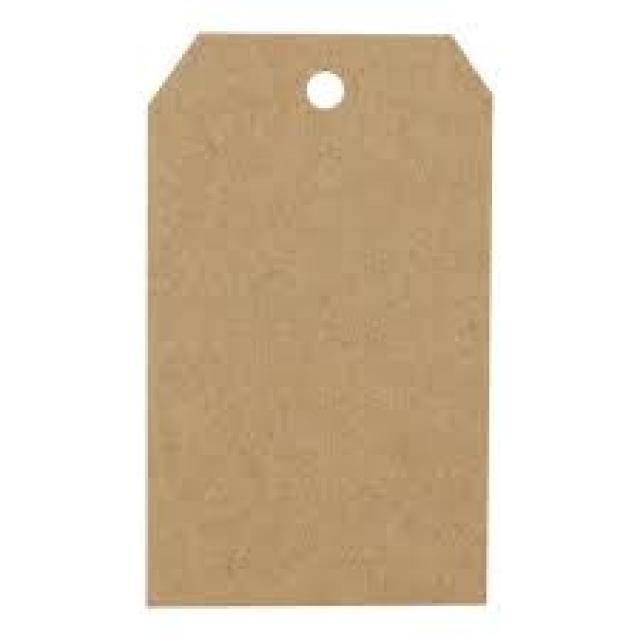Cardboard: (146, 31, 492, 606)
